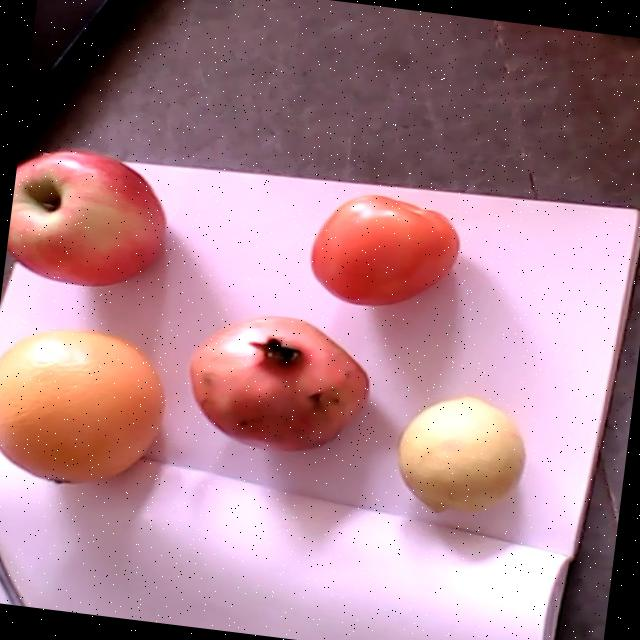apple: (8, 148, 164, 286)
lemon: (399, 395, 522, 513)
orange: (0, 330, 164, 481)
pomegranate: (189, 314, 369, 450)
tomato: (311, 195, 457, 304)
